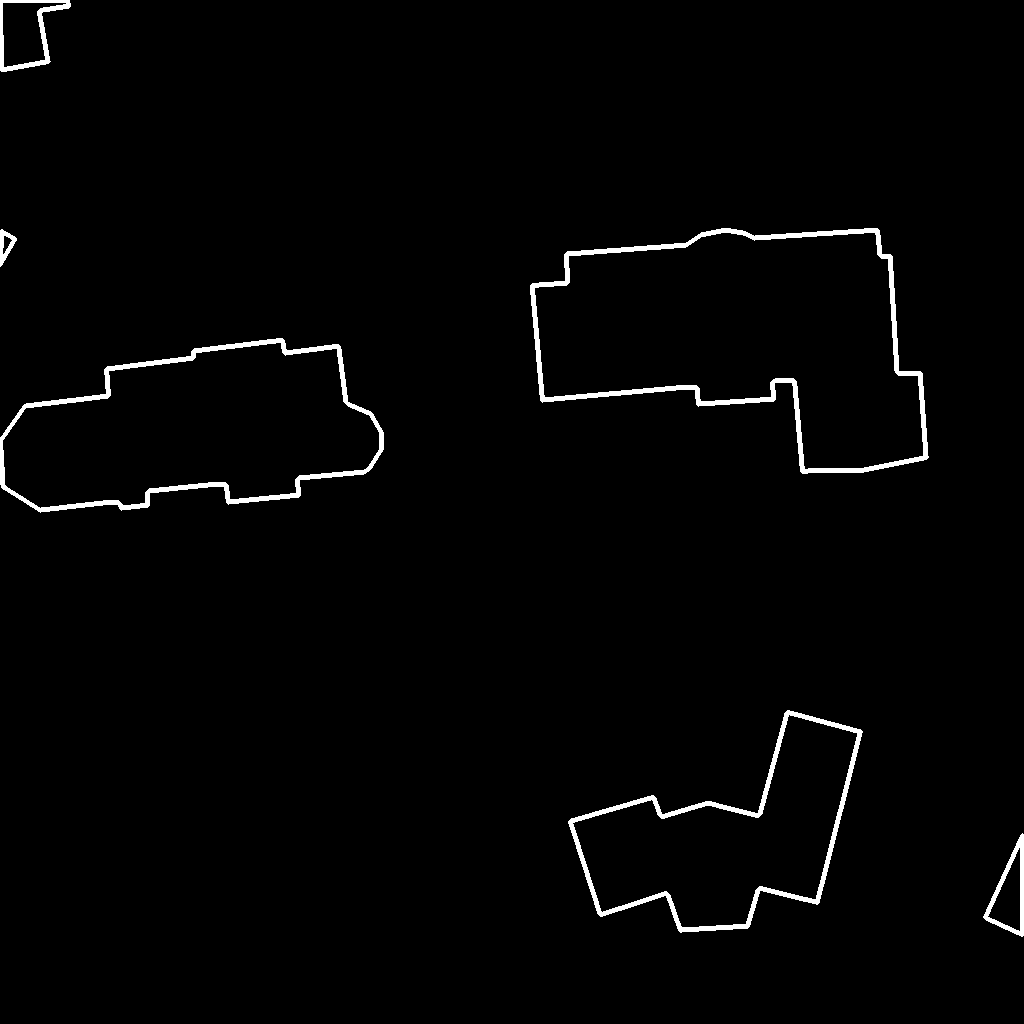building: (532, 230, 927, 472), (0, 340, 383, 511), (570, 712, 862, 931), (0, 0, 70, 100), (985, 834, 1024, 936), (0, 231, 16, 266)
